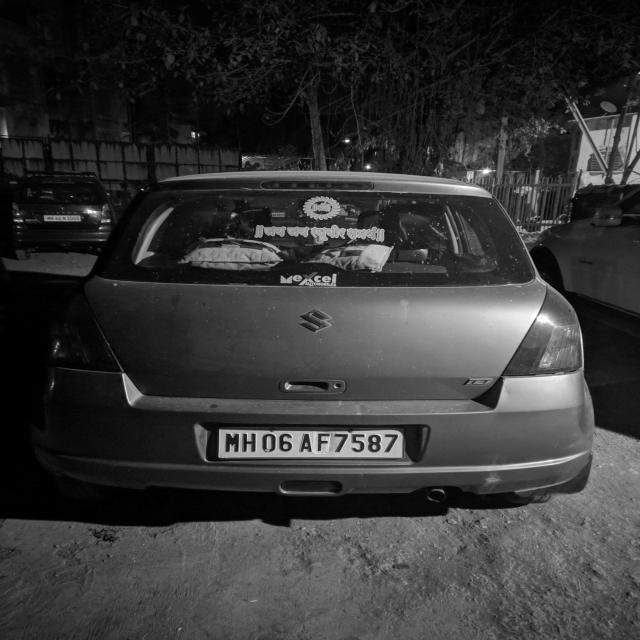car: (31, 167, 603, 516)
license-plate: (218, 429, 412, 471)
